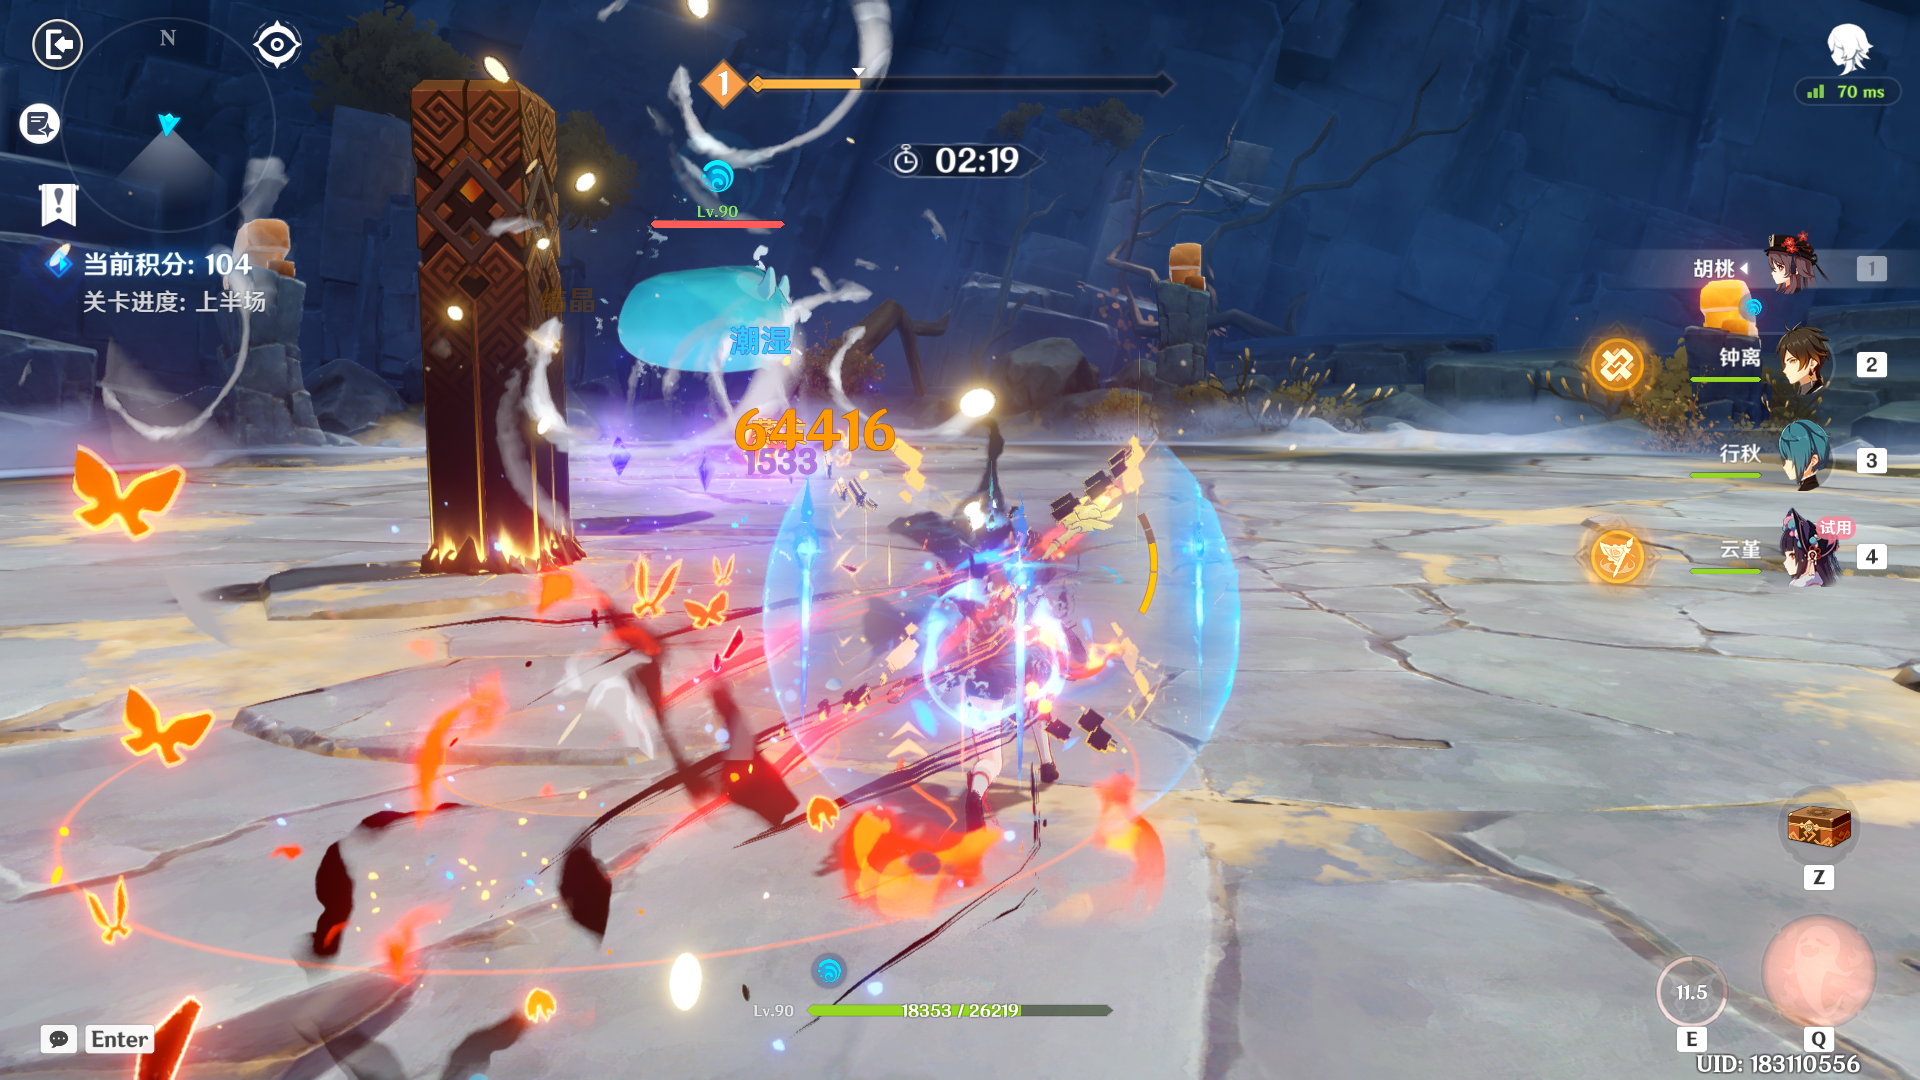slime: (588, 239, 833, 398)
